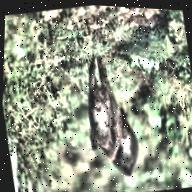boar: (59, 62, 139, 183)
